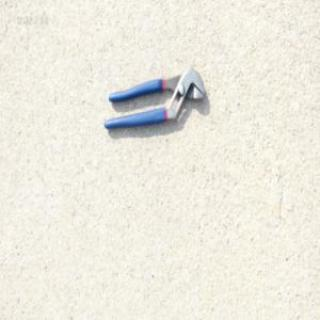Pliertrack_idkeyframe: (103, 68, 206, 132)
